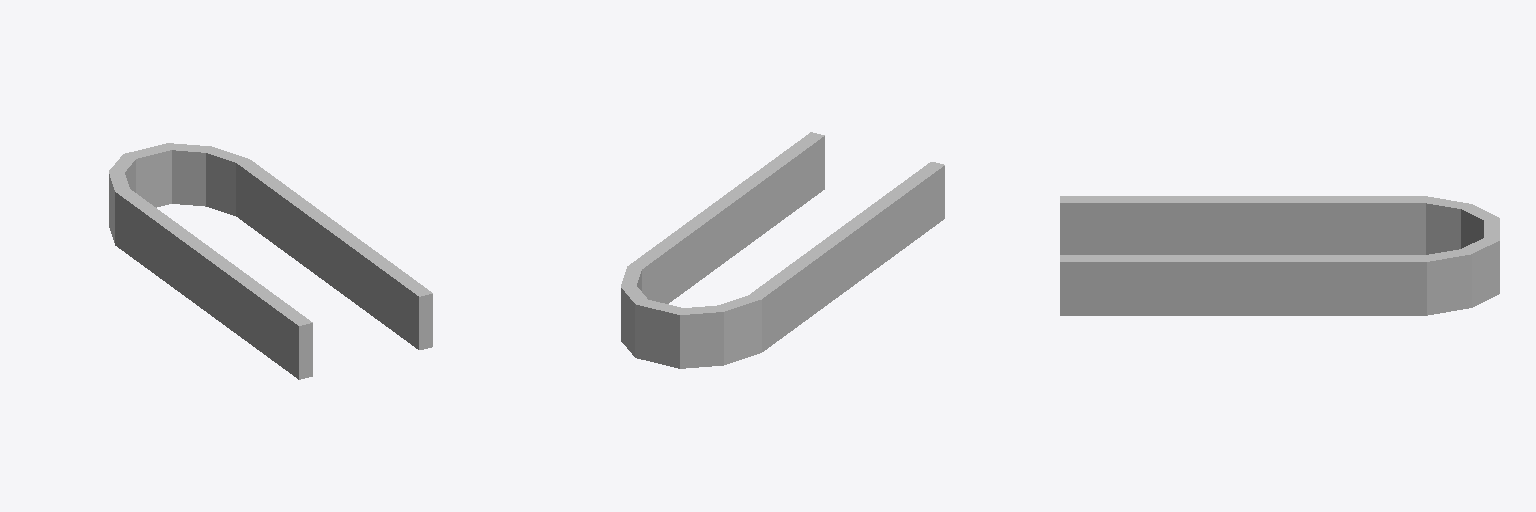
The model's file is ReferenceMan.013.obj.
3 renders of one model, left to right at view 1: azimuth 30°, elevation 25°; view 2: azimuth 150°, elevation 25°; view 3: azimuth 270°, elevation 25°, orthographic.
Visible parts, largest first — view 1: ReferenceMan.013; view 2: ReferenceMan.013; view 3: ReferenceMan.013.
Boxes of the visible parts, box(x1,y1,x2,y2) form: ReferenceMan.013: box(109, 143, 432, 379); ReferenceMan.013: box(621, 132, 944, 368); ReferenceMan.013: box(1060, 196, 1499, 315).
Size of the model in its own units: 0.76 by 0.2899 by 2.16.